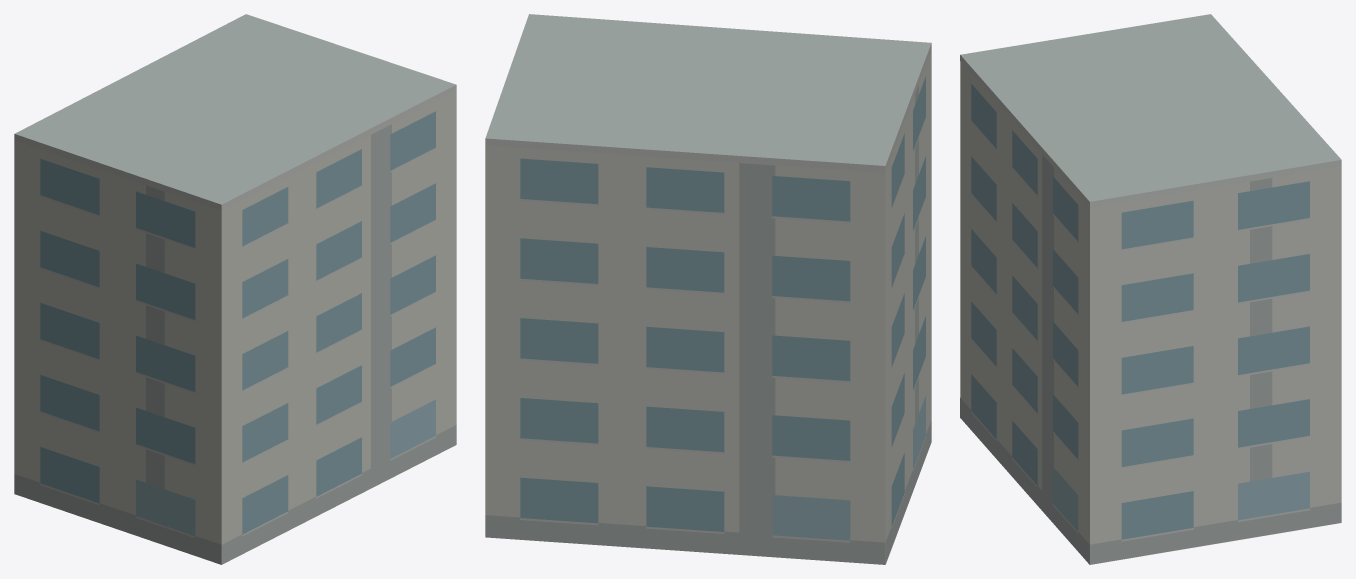
File: survey-upis-32844816.glb
The picture shows the model from 3 angles, left to right: view 1: azimuth 30°, elevation 25°; view 2: azimuth 150°, elevation 25°; view 3: azimuth 270°, elevation 25°; orthographic projection. The views are drawn at different scales.
Parts seen in each view (by area): view 1: survey-upis-32844816.tmp; view 2: survey-upis-32844816.tmp; view 3: survey-upis-32844816.tmp.
Boxes of the visible parts, <box> form: survey-upis-32844816.tmp: <box>14,14,456,564</box>; survey-upis-32844816.tmp: <box>485,14,931,564</box>; survey-upis-32844816.tmp: <box>960,14,1341,564</box>.
Size of the model in its own units: 15.15 by 13.64 by 13.
